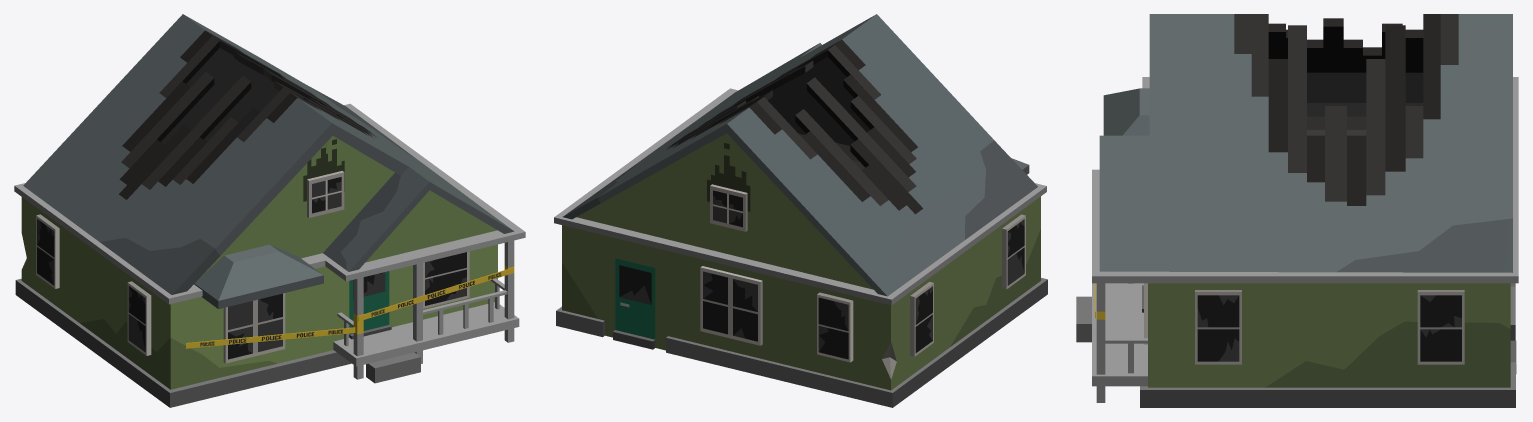
The model's file is SA_Bld_HouseMedium_Damaged_02.gltf.
The picture shows the model from 3 angles, left to right: view 1: azimuth 30°, elevation 25°; view 2: azimuth 150°, elevation 25°; view 3: azimuth 270°, elevation 25°; orthographic projection. The views are drawn at different scales.
Visible parts, largest first — view 1: SA_Bld_HouseMedium_Damaged_02; view 2: SA_Bld_HouseMedium_Damaged_02; view 3: SA_Bld_HouseMedium_Damaged_02.
Part boxes in pixels (box(x1,y1,x2,y2)): SA_Bld_HouseMedium_Damaged_02: box(14, 14, 525, 407); SA_Bld_HouseMedium_Damaged_02: box(554, 14, 1047, 407); SA_Bld_HouseMedium_Damaged_02: box(1076, 14, 1518, 407).
Bounding box in the file's own units: 15.86 × 10.87 × 14.83.
1 material, 1 textured.
